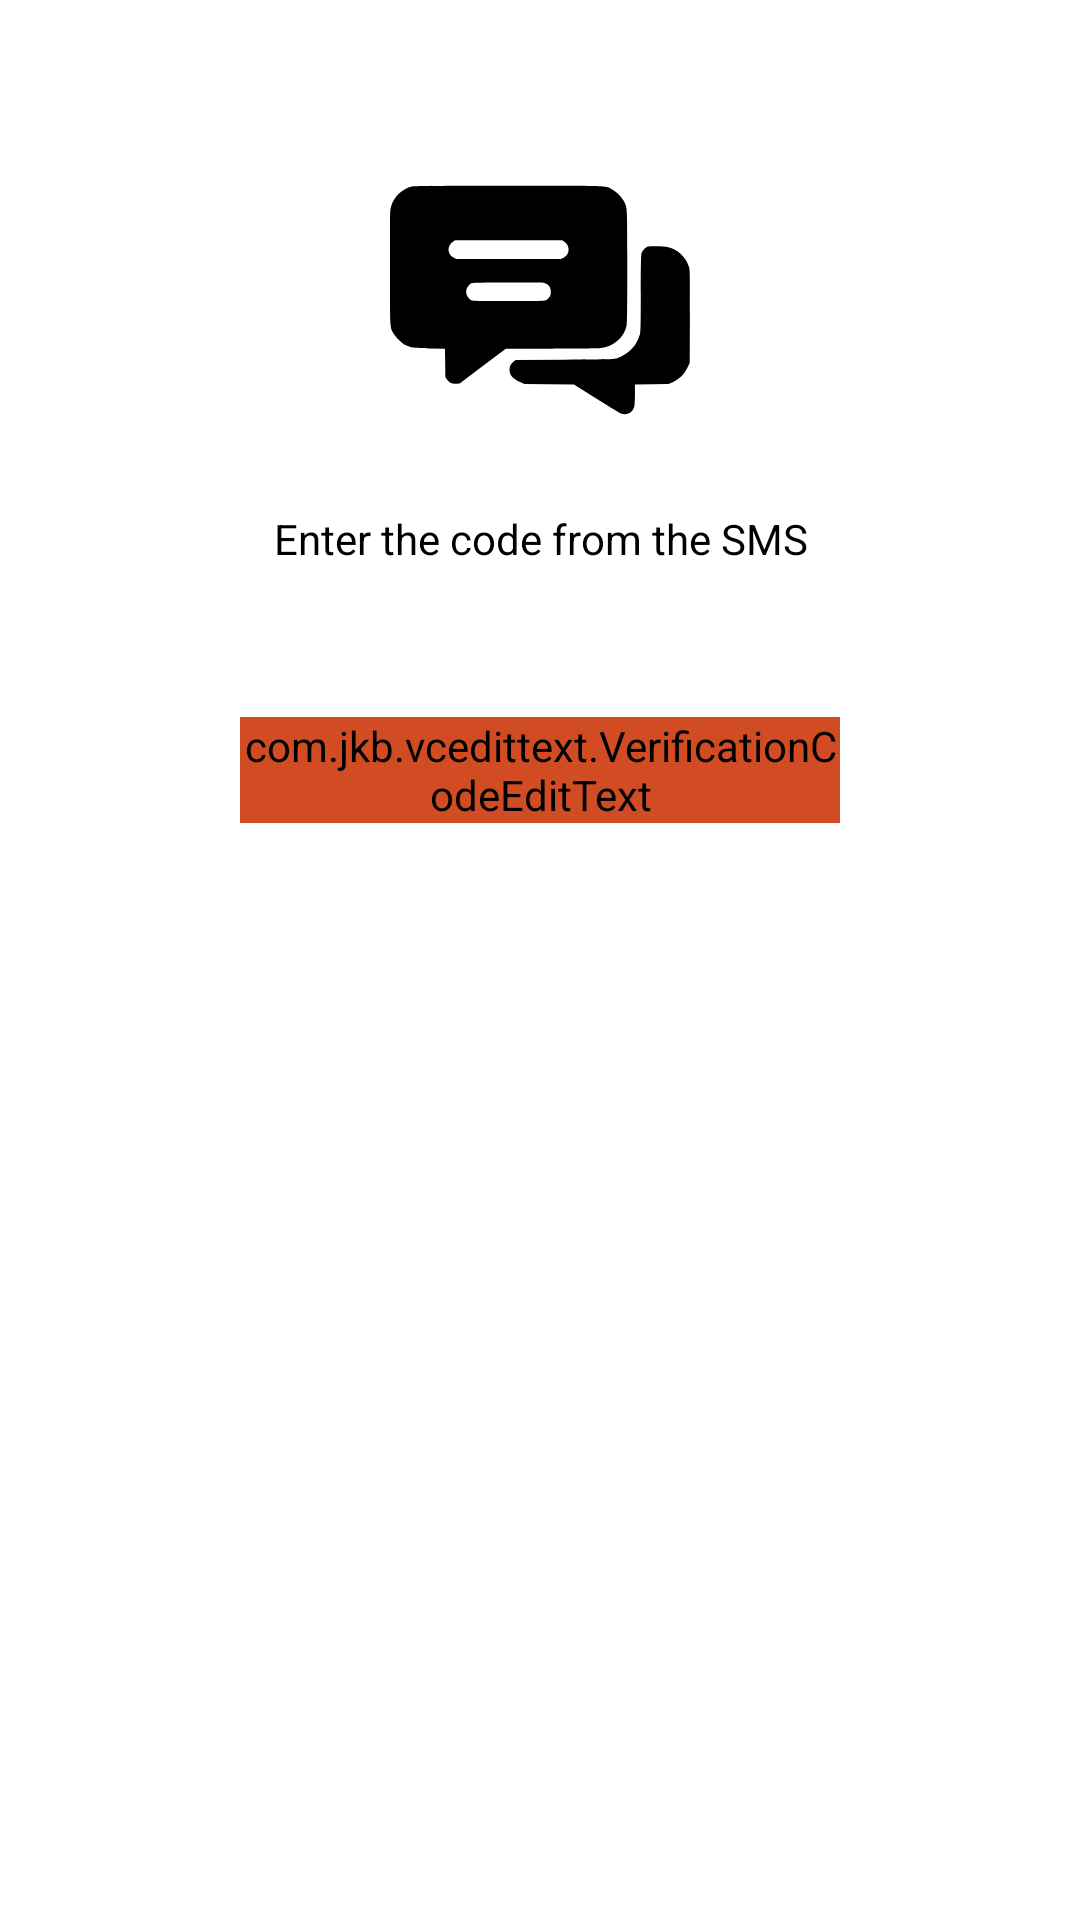

Icon click points for this 1080x1920 phone screenshot, format point (x, y):
messenger: point (540, 300)
